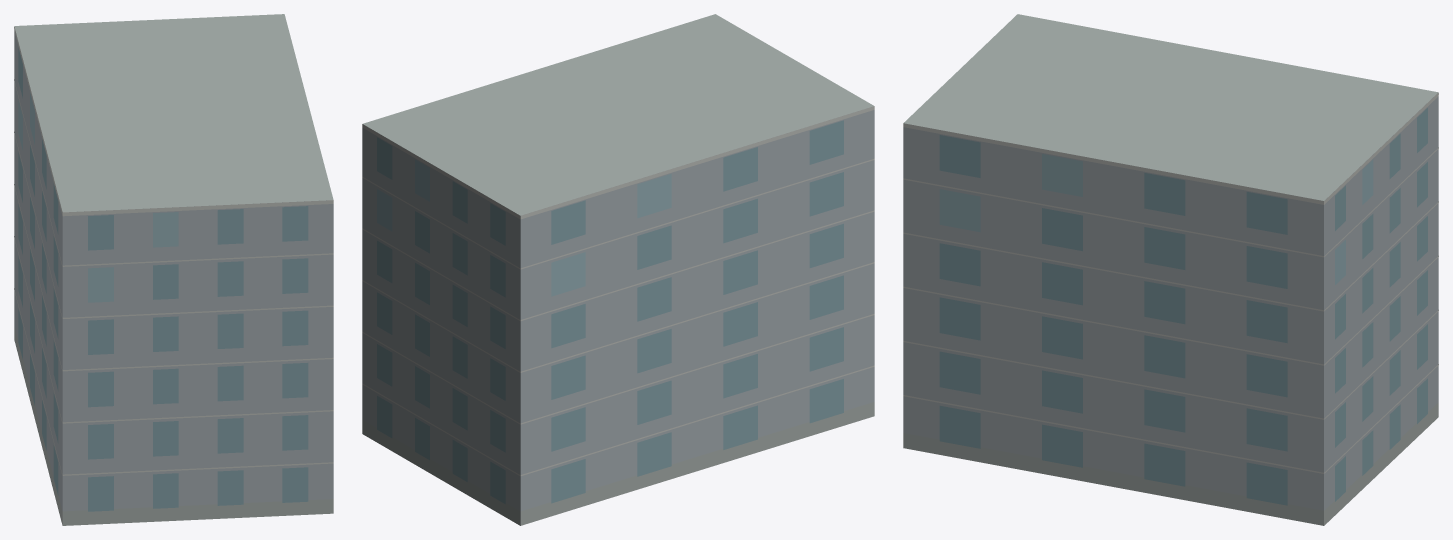
Rendered from survey-upis-32522692.glb.
3 views of the same model, side by side, from view 1: azimuth 30°, elevation 25°; view 2: azimuth 150°, elevation 25°; view 3: azimuth 270°, elevation 25° (orthographic). The views are drawn at different scales.
Parts seen in each view (by area): view 1: survey-upis-32522692.tmp; view 2: survey-upis-32522692.tmp; view 3: survey-upis-32522692.tmp.
Boxes of the visible parts, box(x1,y1,x2,y2) form: survey-upis-32522692.tmp: box(14, 14, 333, 525); survey-upis-32522692.tmp: box(362, 14, 874, 525); survey-upis-32522692.tmp: box(903, 14, 1438, 525).
Size of the model in its own units: 24.84 by 20.1 by 30.04.
